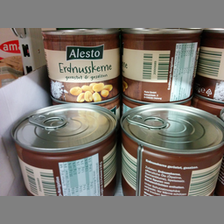nuts: (9, 102, 118, 196), (120, 102, 224, 196), (120, 29, 204, 103), (41, 29, 122, 103)
